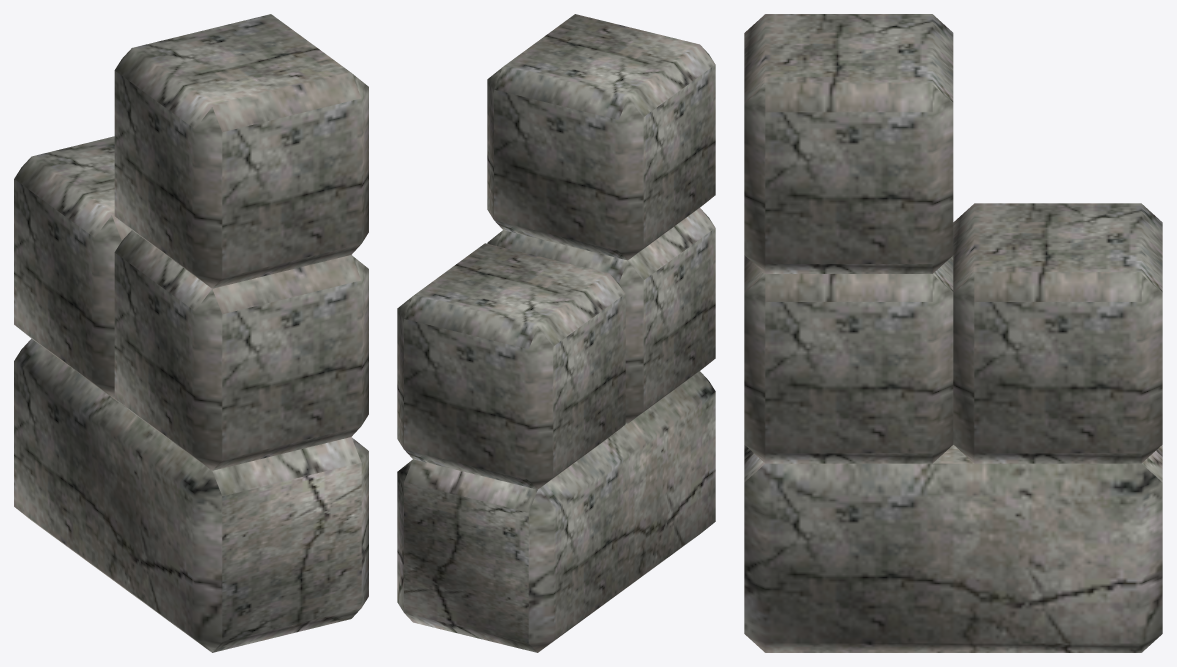
Rendered from BLOCK_CLUSTER01.fbx.
The picture shows the model from 3 angles, left to right: view 1: azimuth 30°, elevation 25°; view 2: azimuth 150°, elevation 25°; view 3: azimuth 270°, elevation 25°; orthographic projection. The views are drawn at different scales.
Parts seen in each view (by area): view 1: BLOCK_CLUSTER01; view 2: BLOCK_CLUSTER01; view 3: BLOCK_CLUSTER01.
Part boxes in pixels (left/top/right/bottom): BLOCK_CLUSTER01: left=14, top=14, right=368, bottom=652; BLOCK_CLUSTER01: left=397, top=14, right=715, bottom=652; BLOCK_CLUSTER01: left=744, top=14, right=1162, bottom=652.
Bounding box in the file's own units: 10000 × 30000 × 20000.
1 material, 1 textured.
